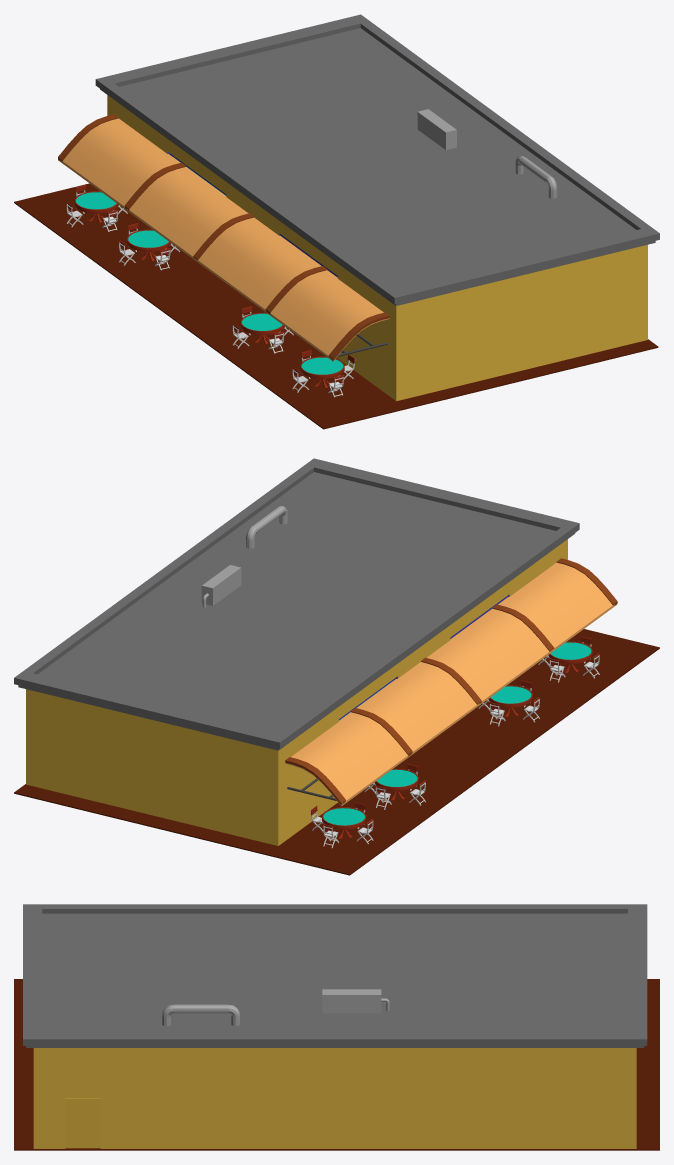
Rendered from Restaurante.fbx.
The picture shows the model from 3 angles, top to bottom: view 1: azimuth 30°, elevation 25°; view 2: azimuth 150°, elevation 25°; view 3: azimuth 270°, elevation 25°; orthographic projection. The views are drawn at different scales.
Parts seen in each view (by area): view 1: pCube1641, pCube769, pCube771, Refris:pCube215, Refris:pCylinder23; view 2: pCube1641, pCube769, pCube771, Refris:pCube215, Refris:pCylinder23; view 3: pCube1641, pCube751, Refris:pCube215, Refris:pCylinder23.
Boxes of the visible parts, box(x1,y1,x2,y2) form: pCube1641: box(14, 14, 659, 429); pCube769: box(58, 118, 389, 361); pCube771: box(58, 114, 389, 360); Refris:pCube215: box(417, 109, 456, 149); Refris:pCylinder23: box(515, 156, 557, 198); pCube1641: box(14, 458, 659, 875); pCube769: box(285, 562, 617, 806); pCube771: box(285, 558, 617, 805); Refris:pCube215: box(201, 565, 241, 605); Refris:pCylinder23: box(246, 505, 287, 548); pCube1641: box(14, 904, 659, 1150); pCube751: box(65, 1098, 100, 1148); Refris:pCube215: box(322, 989, 381, 1013); Refris:pCylinder23: box(162, 1004, 239, 1026).
Bounding box in the file's own units: 2.55 × 0.8893 × 4.01.
